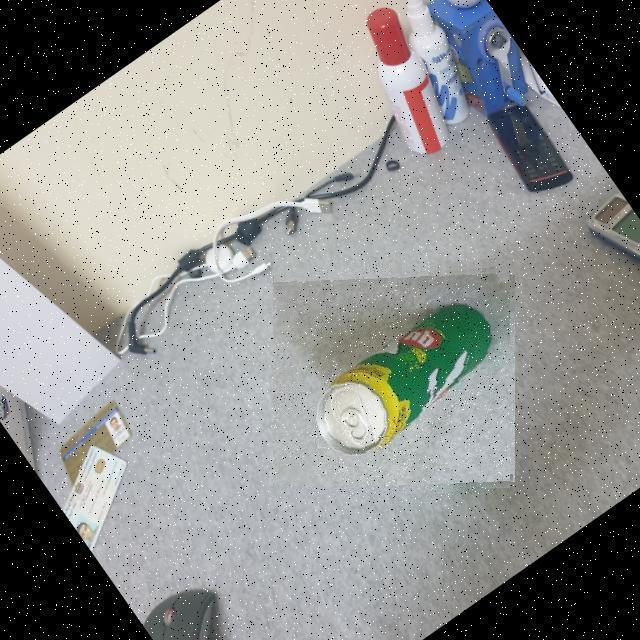recyclable: (278, 262, 510, 494)
